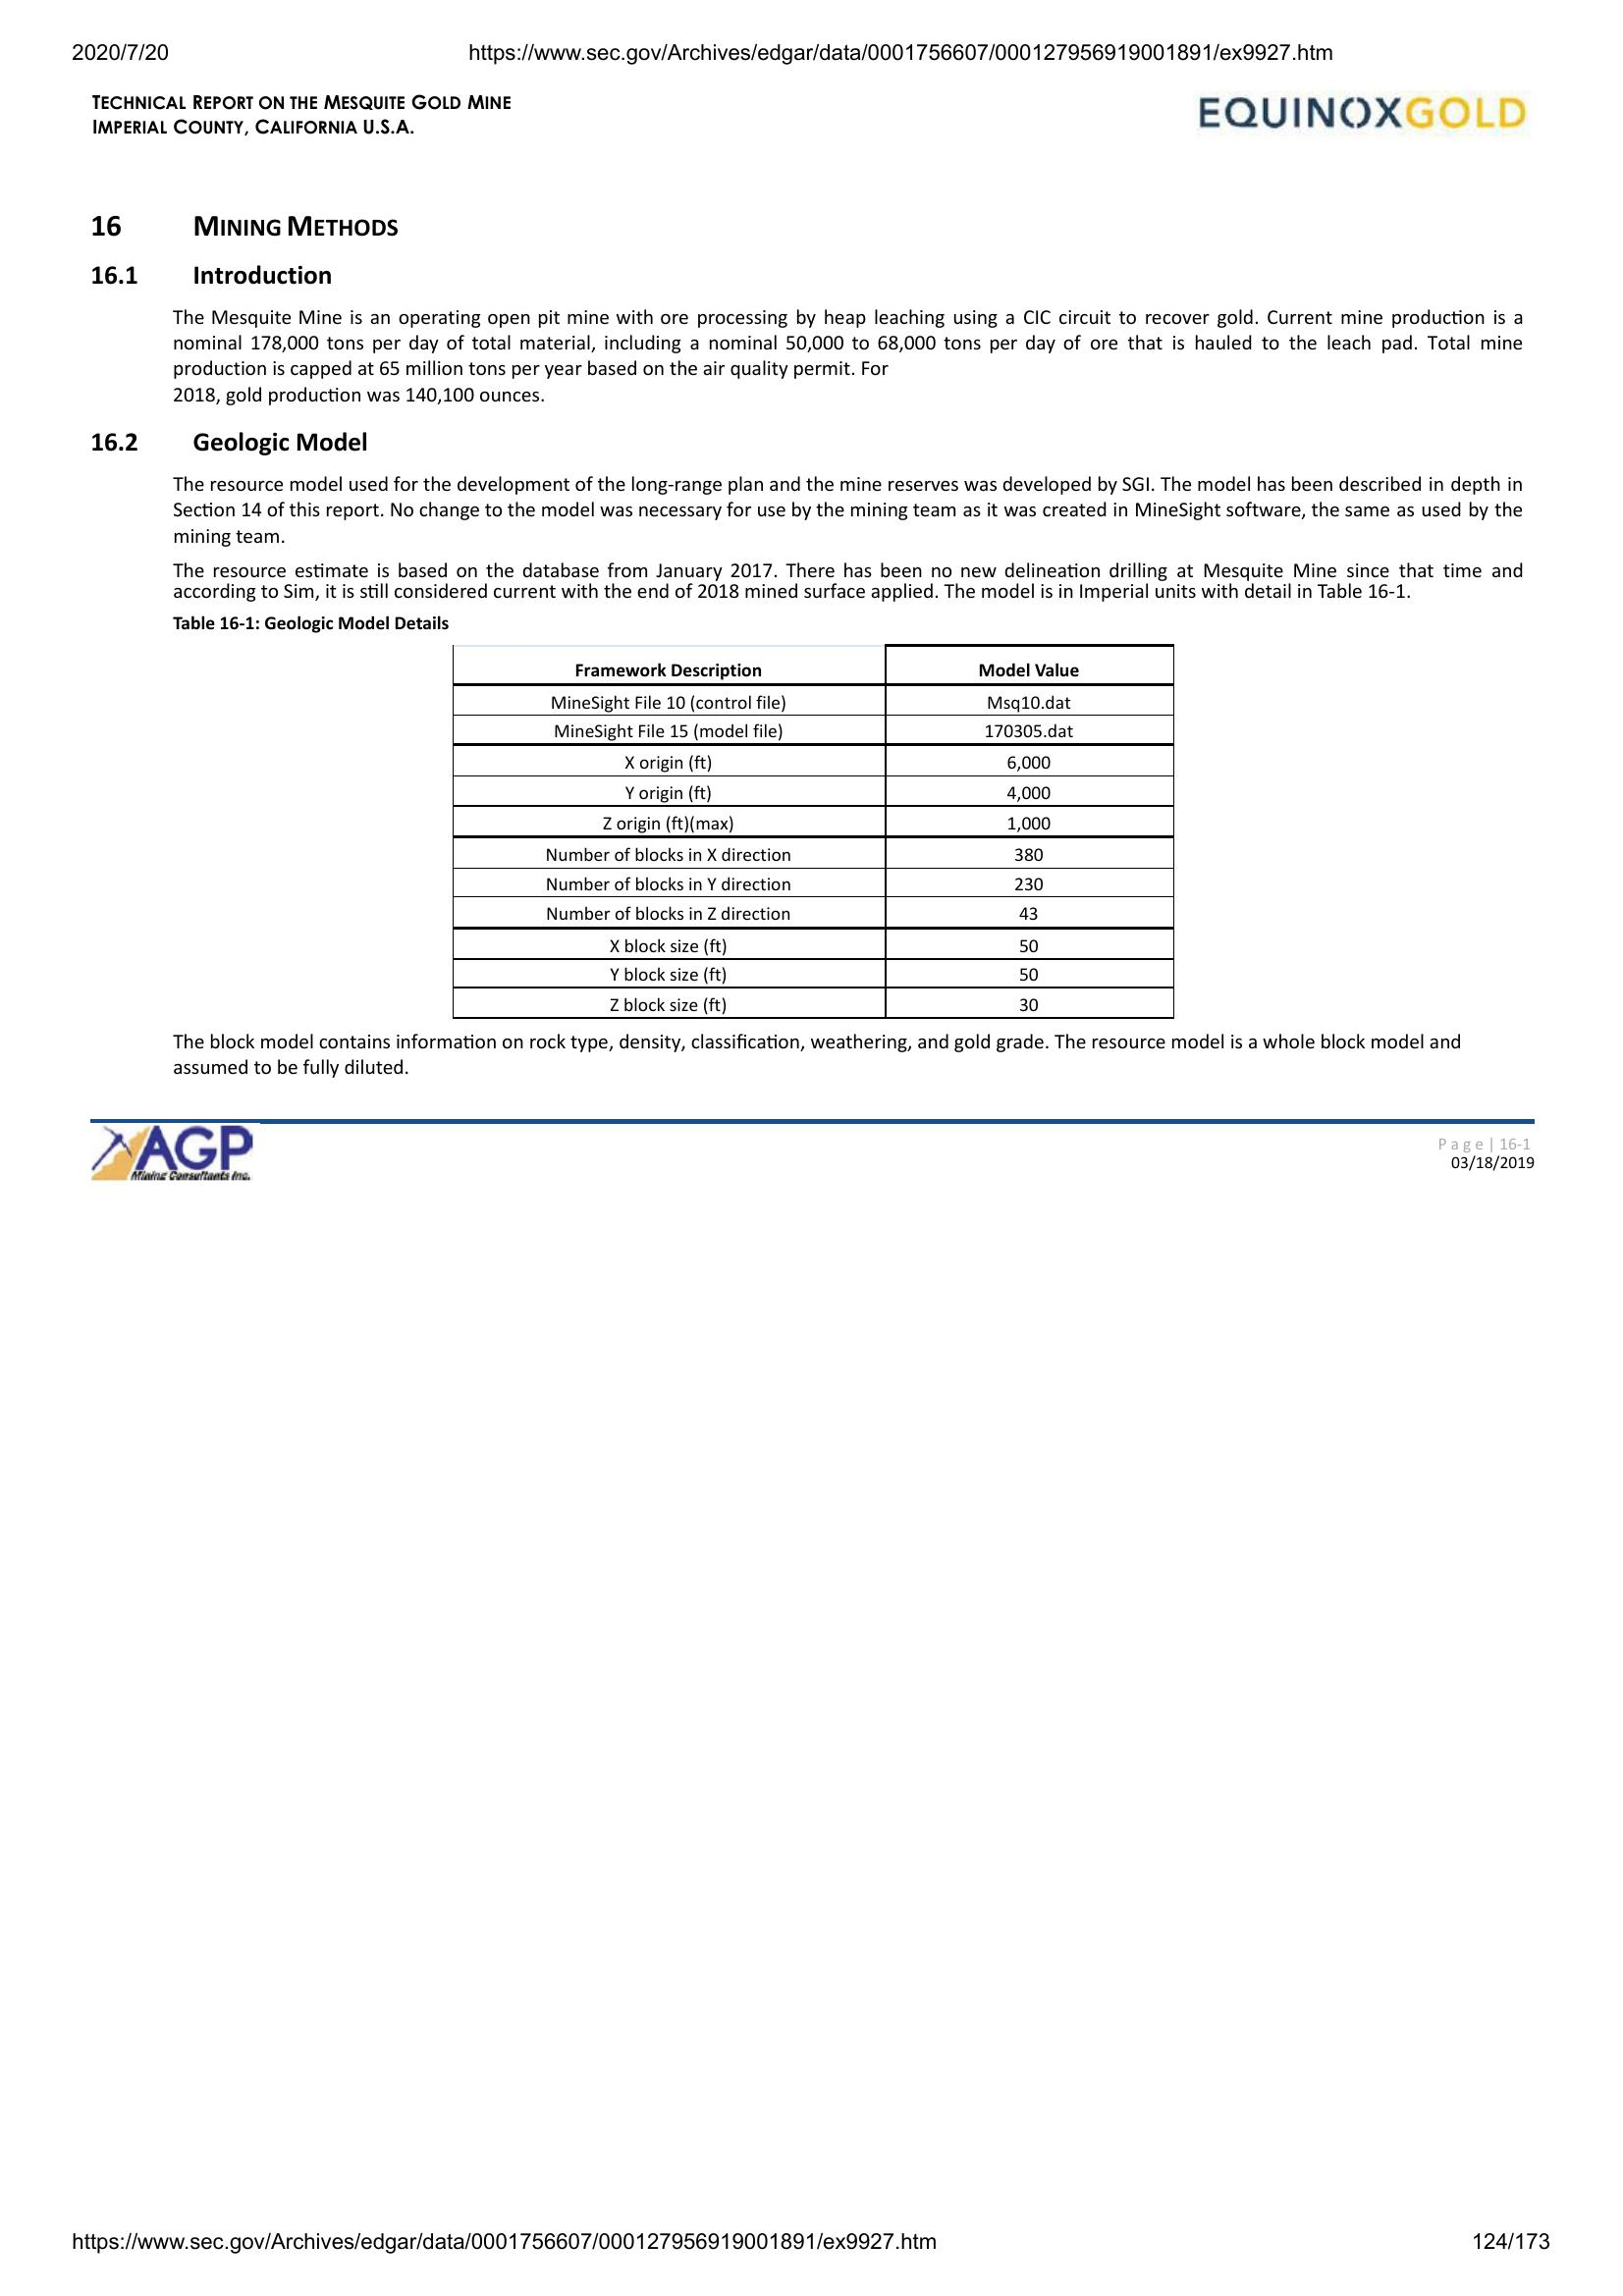table: (444, 637, 1180, 1027)
